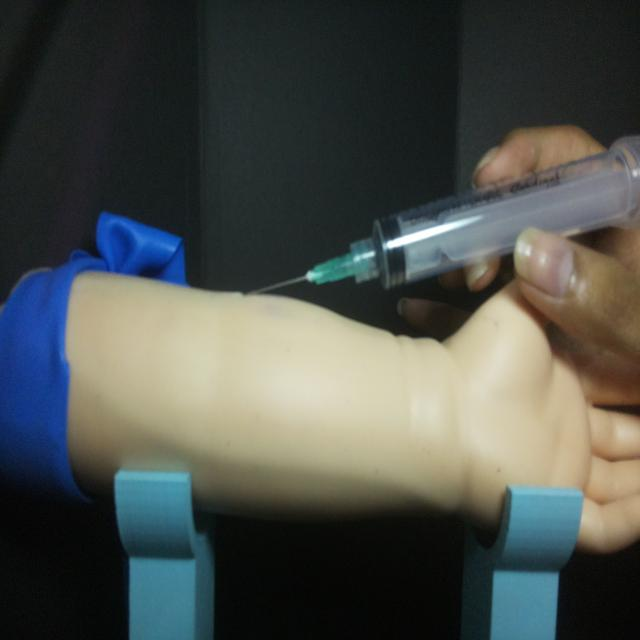19deg: (245, 131, 638, 300)
